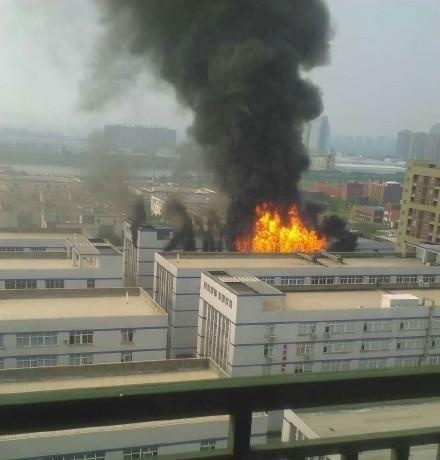fire: (235, 203, 328, 255)
